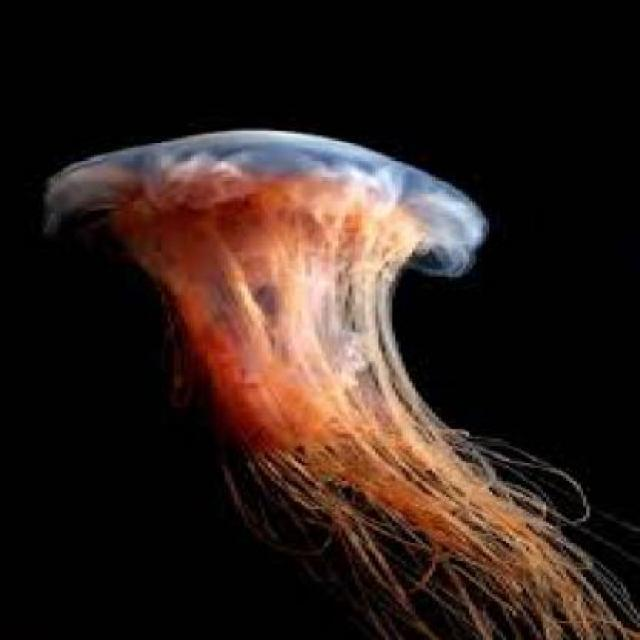Jellyfish: (36, 120, 627, 638)
